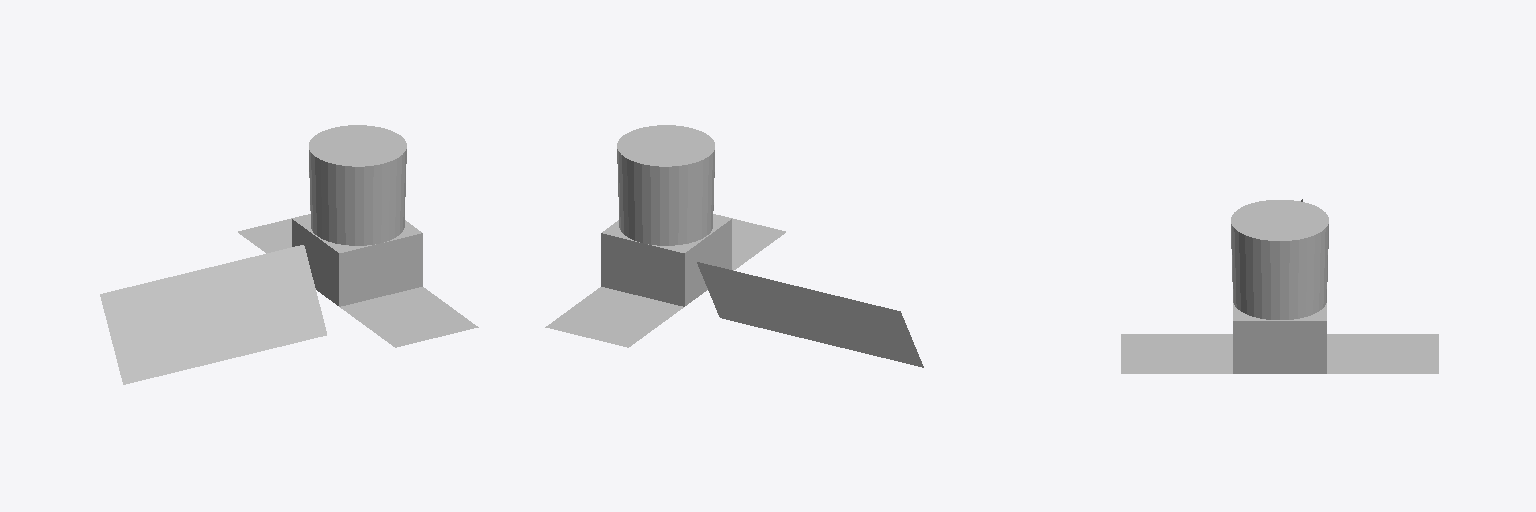
Rendered from straight_combined_LAMP_60.obj.
3 views of the same model, side by side, from view 1: azimuth 30°, elevation 25°; view 2: azimuth 150°, elevation 25°; view 3: azimuth 270°, elevation 25° (orthographic).
Visible parts, largest first — view 1: 27U_combined_case_straight_solar.001, 27U_combined_case_straight_solar.000; view 2: 27U_combined_case_straight_solar.001, 27U_combined_case_straight_solar.000; view 3: 27U_combined_case_straight_solar.001.
Boxes of the visible parts, x1,y1,x2,y2 form: 27U_combined_case_straight_solar.001: [238, 125, 478, 347]; 27U_combined_case_straight_solar.000: [100, 245, 326, 384]; 27U_combined_case_straight_solar.001: [545, 125, 785, 347]; 27U_combined_case_straight_solar.000: [697, 262, 923, 367]; 27U_combined_case_straight_solar.001: [1121, 200, 1438, 373].
Size of the model in its own units: 1.24 by 0.7016 by 1.18.